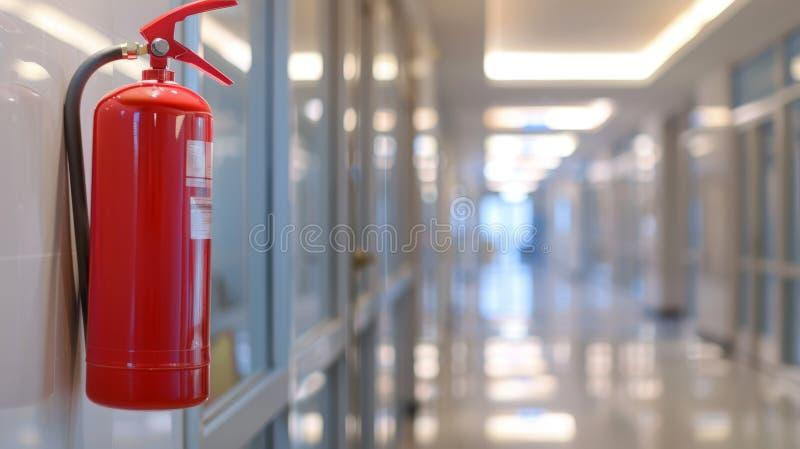wall-mounted: (26, 6, 259, 416)
